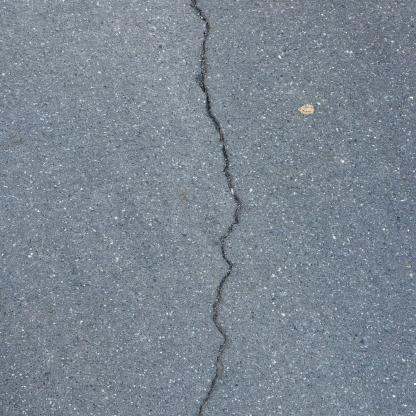Cracks: (127, 0, 244, 416)
